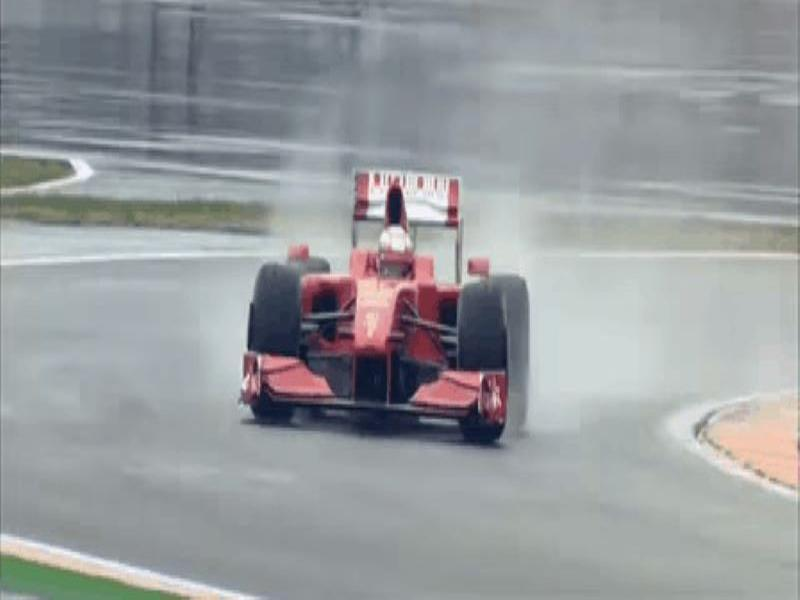f1: (215, 154, 555, 446)
